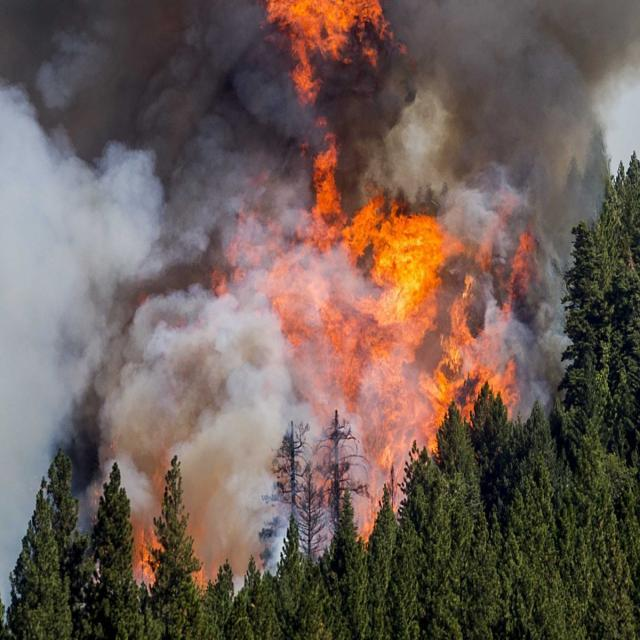Fire: (224, 172, 452, 362), (367, 212, 520, 484), (266, 0, 401, 88), (130, 490, 209, 580)
Smoke: (1, 6, 282, 492), (392, 9, 612, 236)
